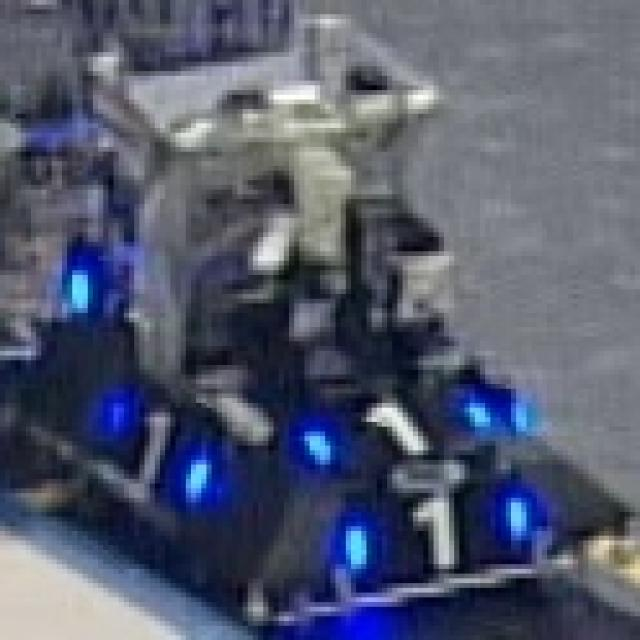B1: (340, 488, 532, 574), (300, 393, 490, 460), (98, 393, 212, 502)
